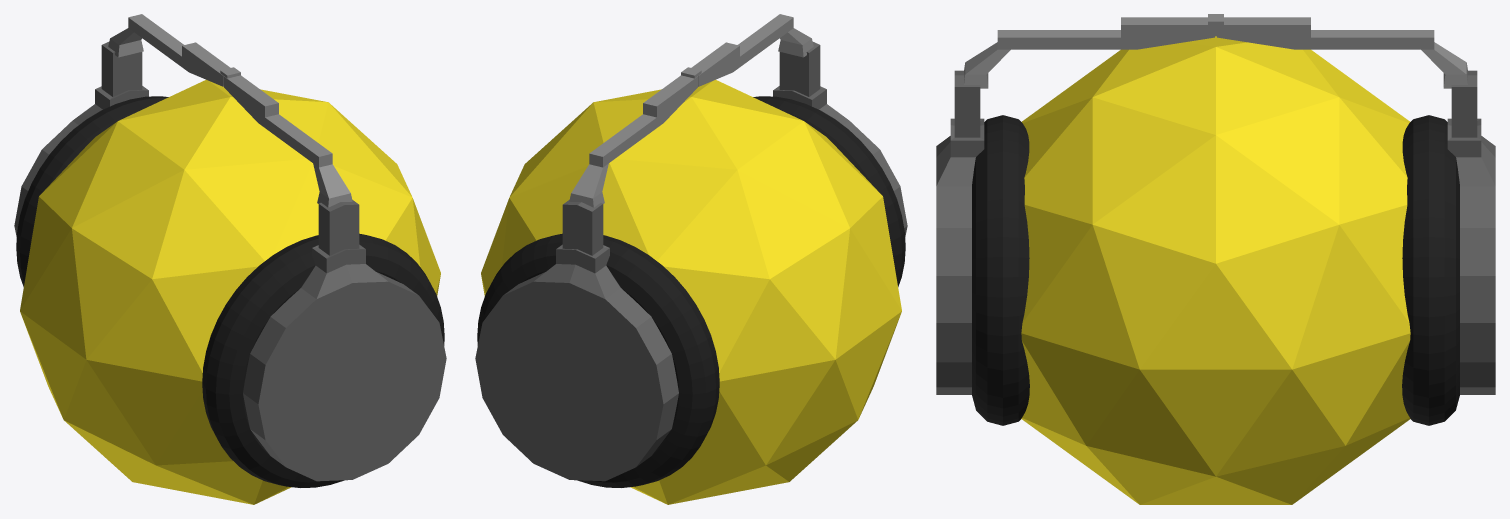
Rendered from glowazsluchawkamiLowPoly.glb.
3 views of the same model, side by side, from view 1: azimuth 30°, elevation 25°; view 2: azimuth 150°, elevation 25°; view 3: azimuth 270°, elevation 25° (orthographic). The views are drawn at different scales.
Visible parts, largest first — view 1: Cube.005; view 2: Cube.005; view 3: Cube.005.
Boxes of the visible parts, box(x1,y1,x2,y2) form: Cube.005: box(14, 14, 446, 504); Cube.005: box(475, 14, 907, 504); Cube.005: box(936, 14, 1495, 504).
Size of the model in its own units: 3.77 by 4.22 by 4.49.
Materials: 1 (1 with a texture image).
